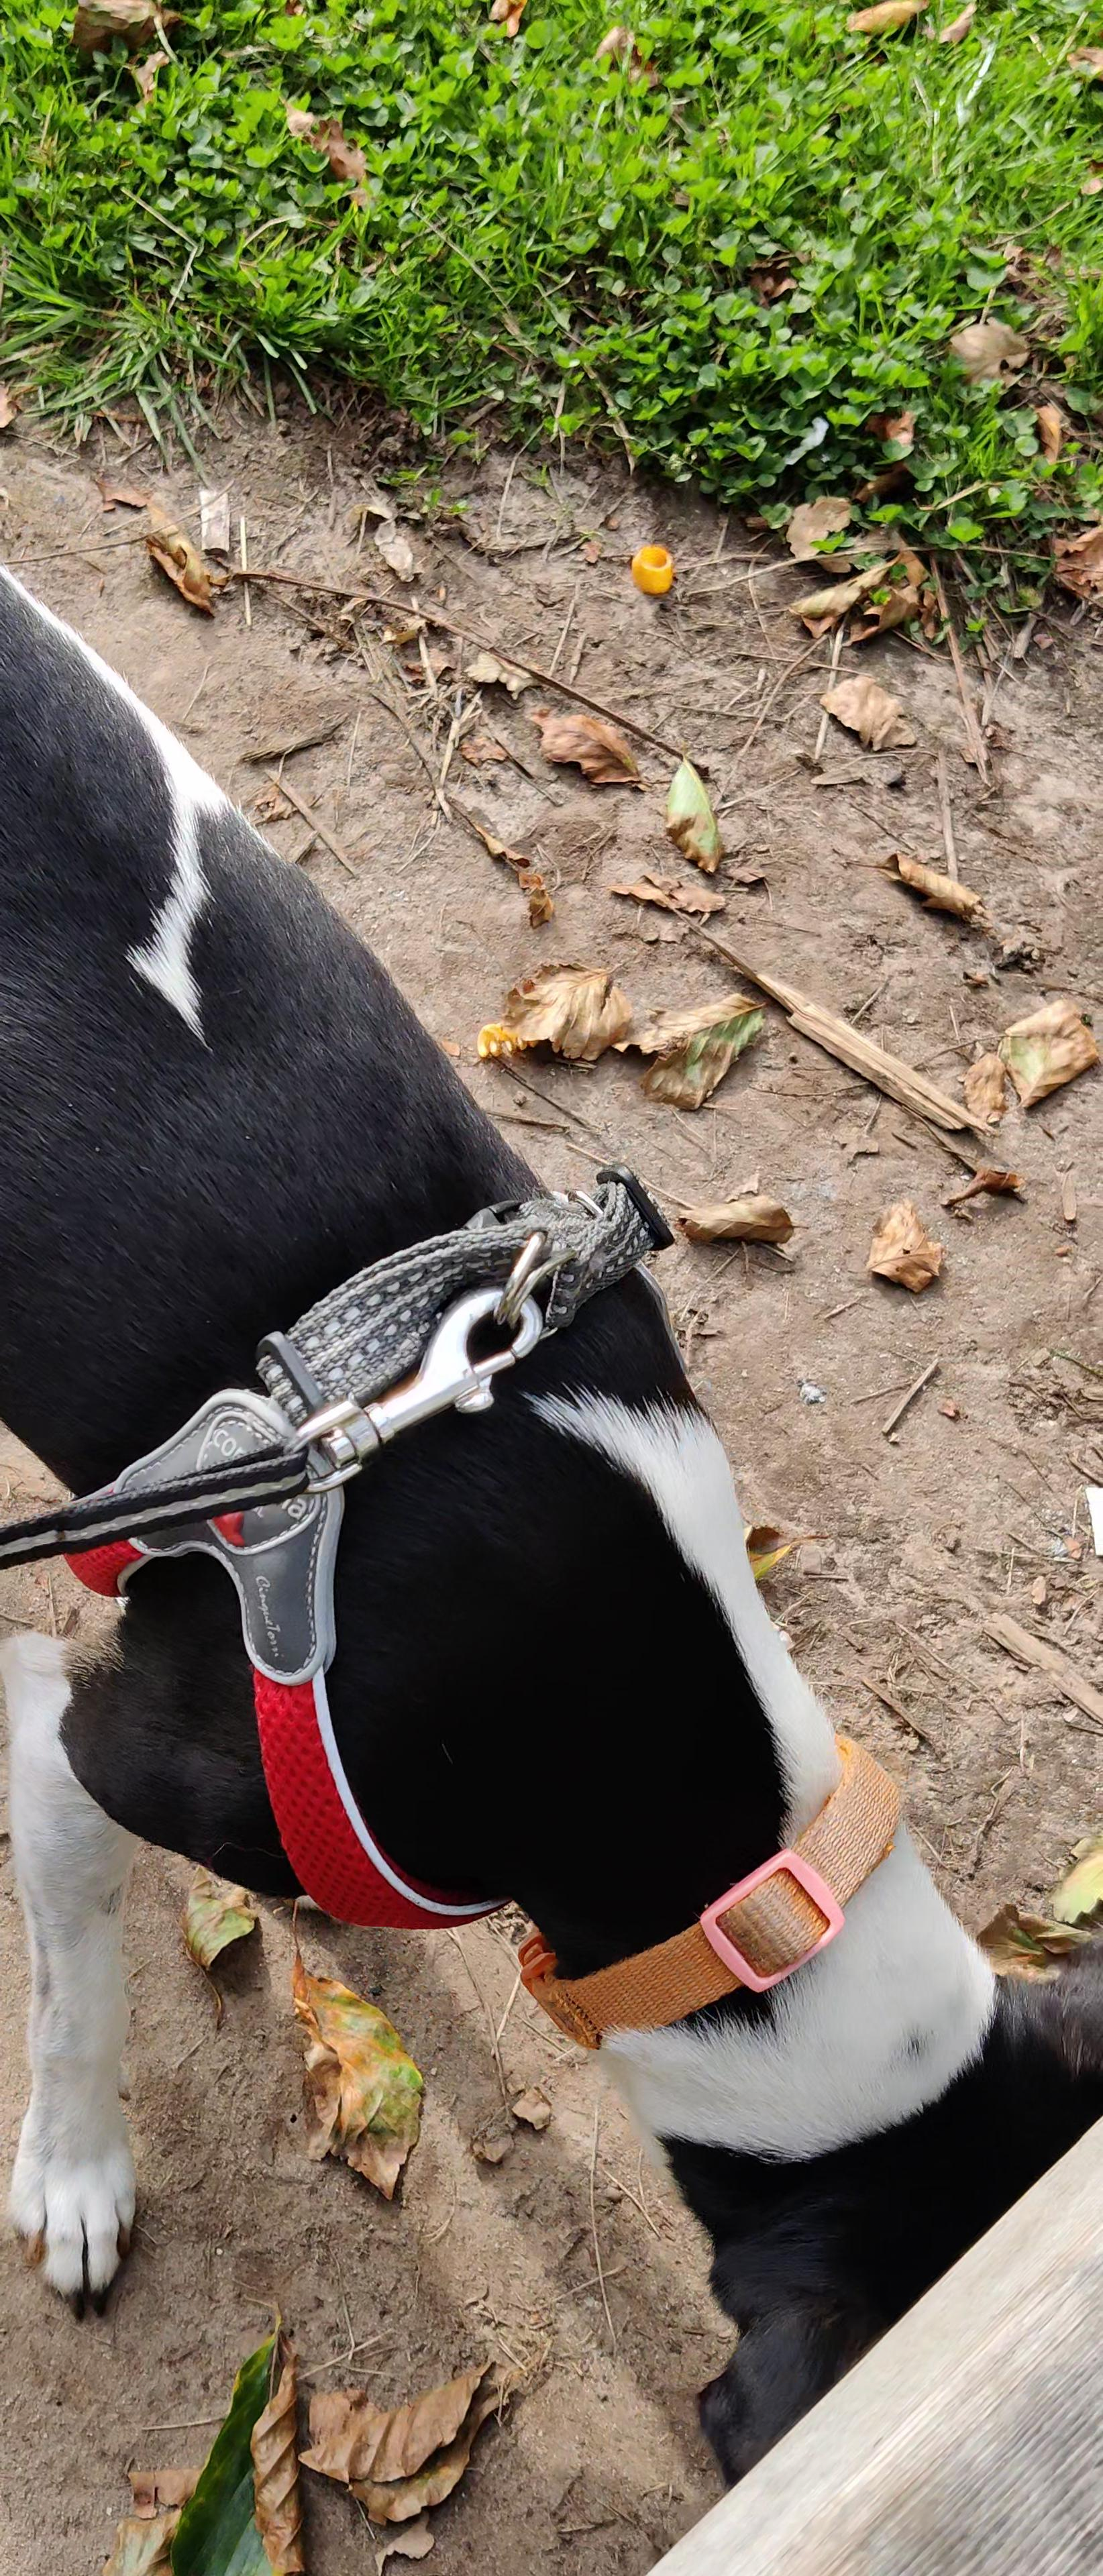Dog: (0, 545, 1103, 2499)
